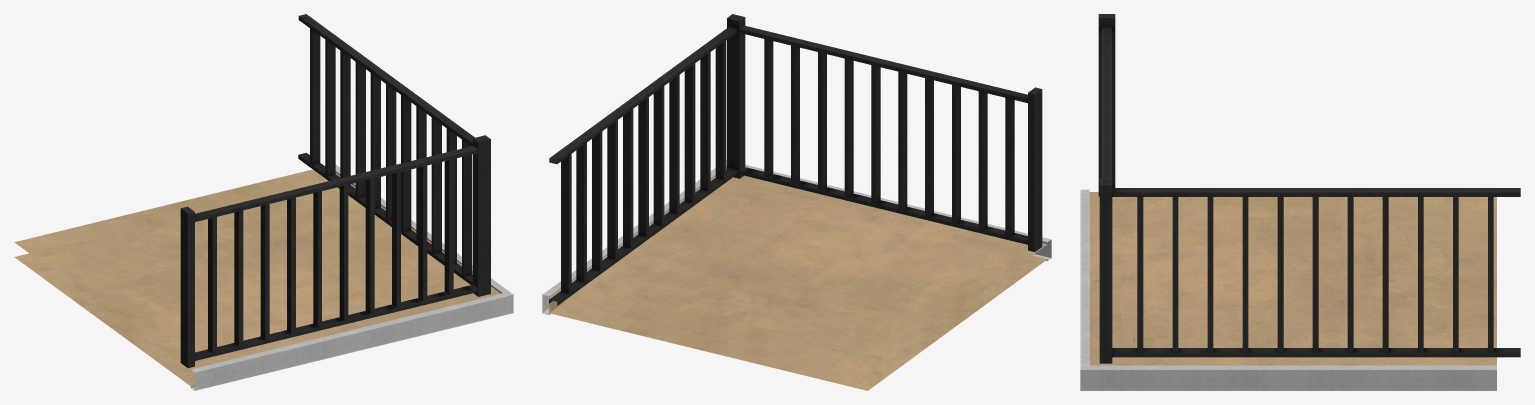
The model's file is Balcony_3.fbx.
3 views of the same model, side by side, from view 1: azimuth 30°, elevation 25°; view 2: azimuth 150°, elevation 25°; view 3: azimuth 270°, elevation 25° (orthographic). The views are drawn at different scales.
Visible parts, largest first — view 1: Balcony_1.001; view 2: Balcony_1.001; view 3: Balcony_1.001.
Part boxes in pixels (bbox=[...]): Balcony_1.001: bbox=[14, 14, 513, 390]; Balcony_1.001: bbox=[542, 14, 1051, 390]; Balcony_1.001: bbox=[1080, 14, 1520, 390].
Size of the model in its own units: 3.07 by 1.57 by 3.17.
